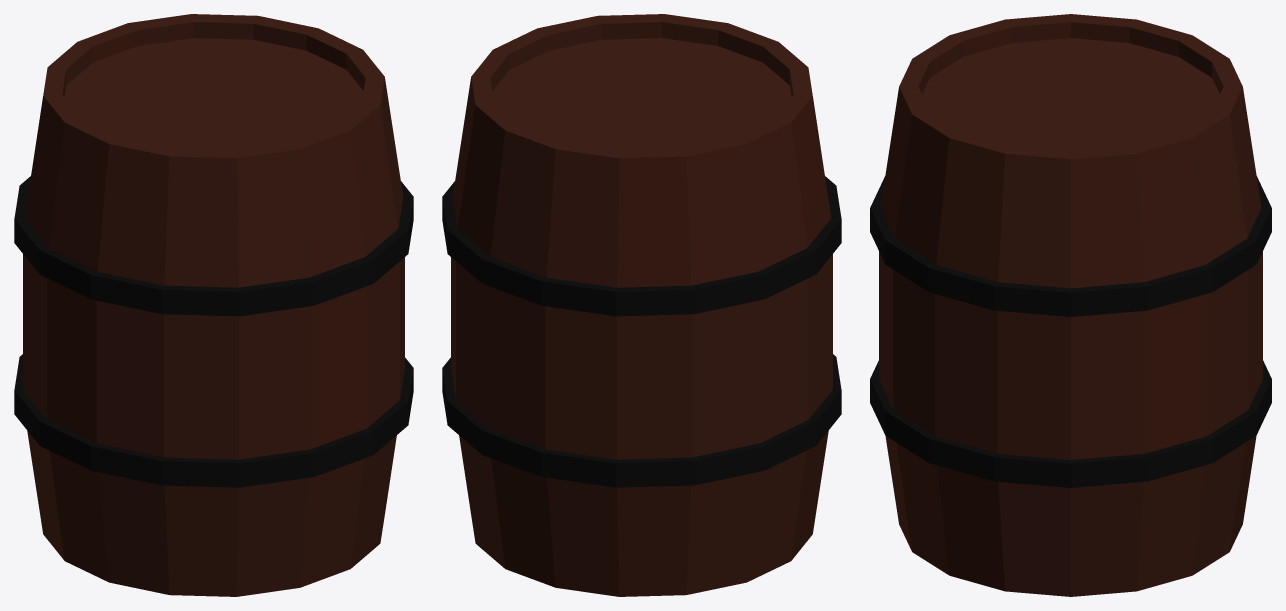
File: Barril.fbx
3 renders of one model, left to right at view 1: azimuth 30°, elevation 25°; view 2: azimuth 150°, elevation 25°; view 3: azimuth 270°, elevation 25°, orthographic.
Visible parts, largest first — view 1: Barrel; view 2: Barrel; view 3: Barrel.
Boxes of the visible parts, bbox=[...] form: Barrel: bbox=[14, 14, 413, 596]; Barrel: bbox=[442, 14, 841, 596]; Barrel: bbox=[870, 14, 1271, 596].
Size of the model in its own units: 214 by 257 by 214.
